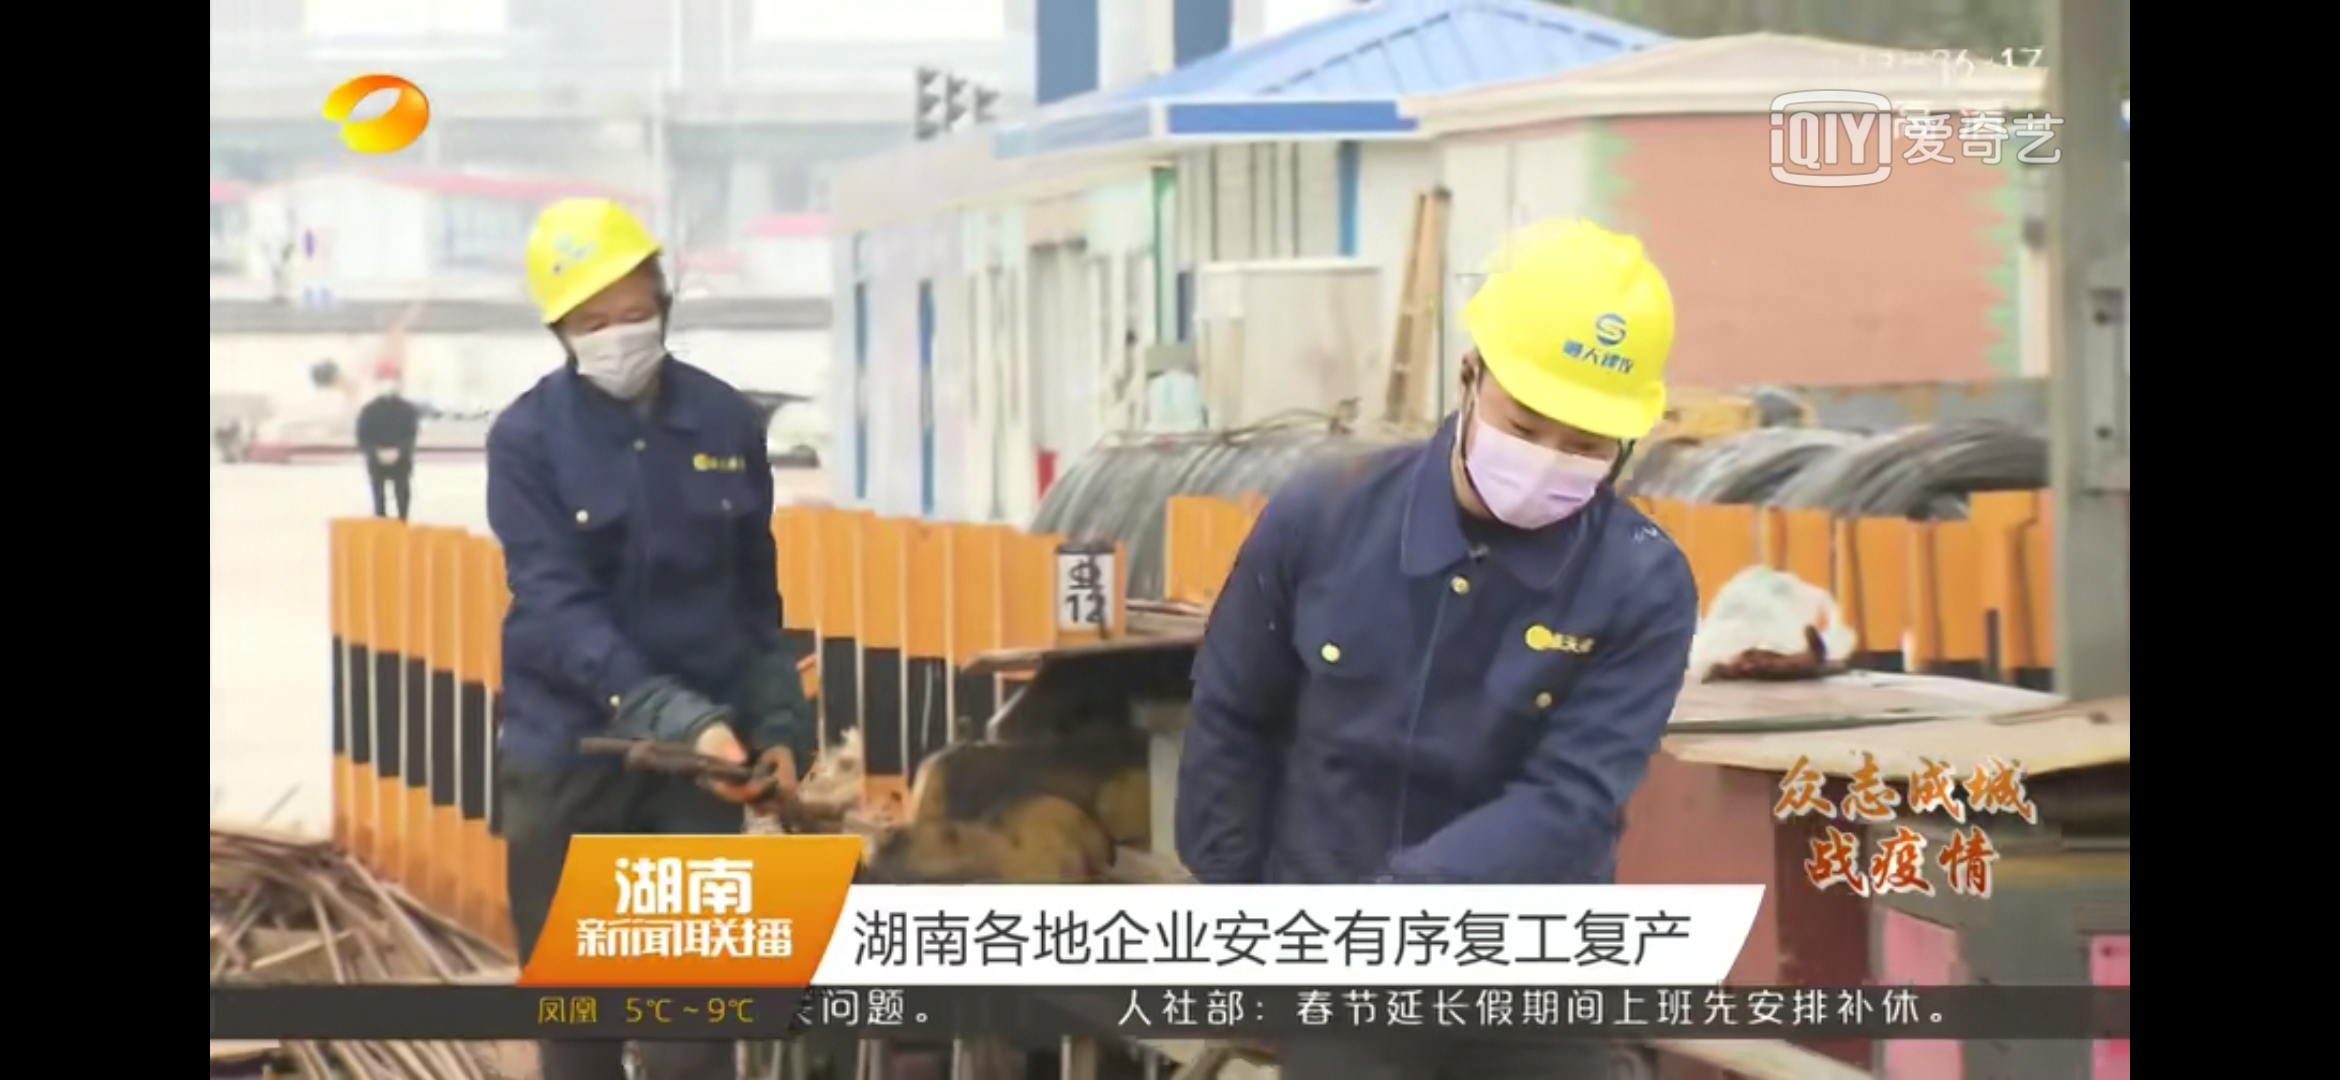correctlyWear: (1451, 324, 1631, 528), (555, 273, 678, 401)
